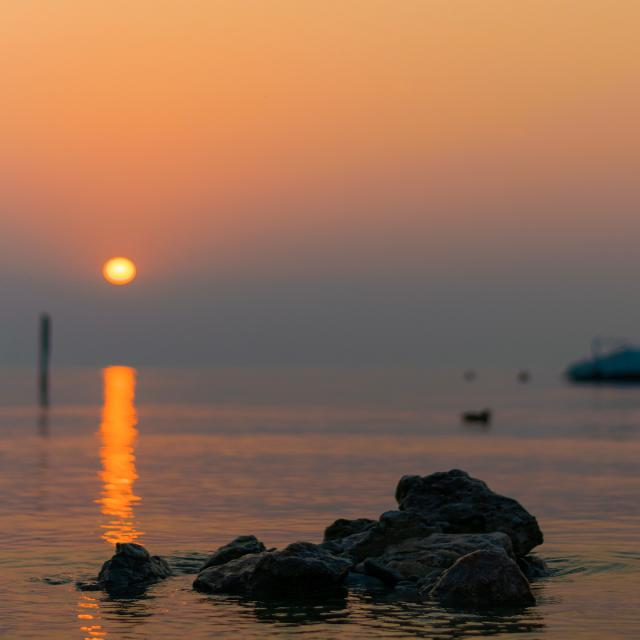reef: (73, 437, 569, 620)
